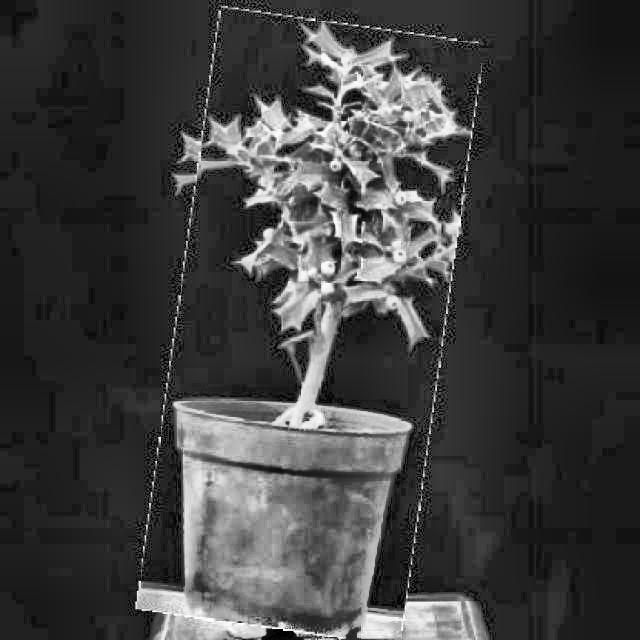plants: (157, 14, 463, 637)
